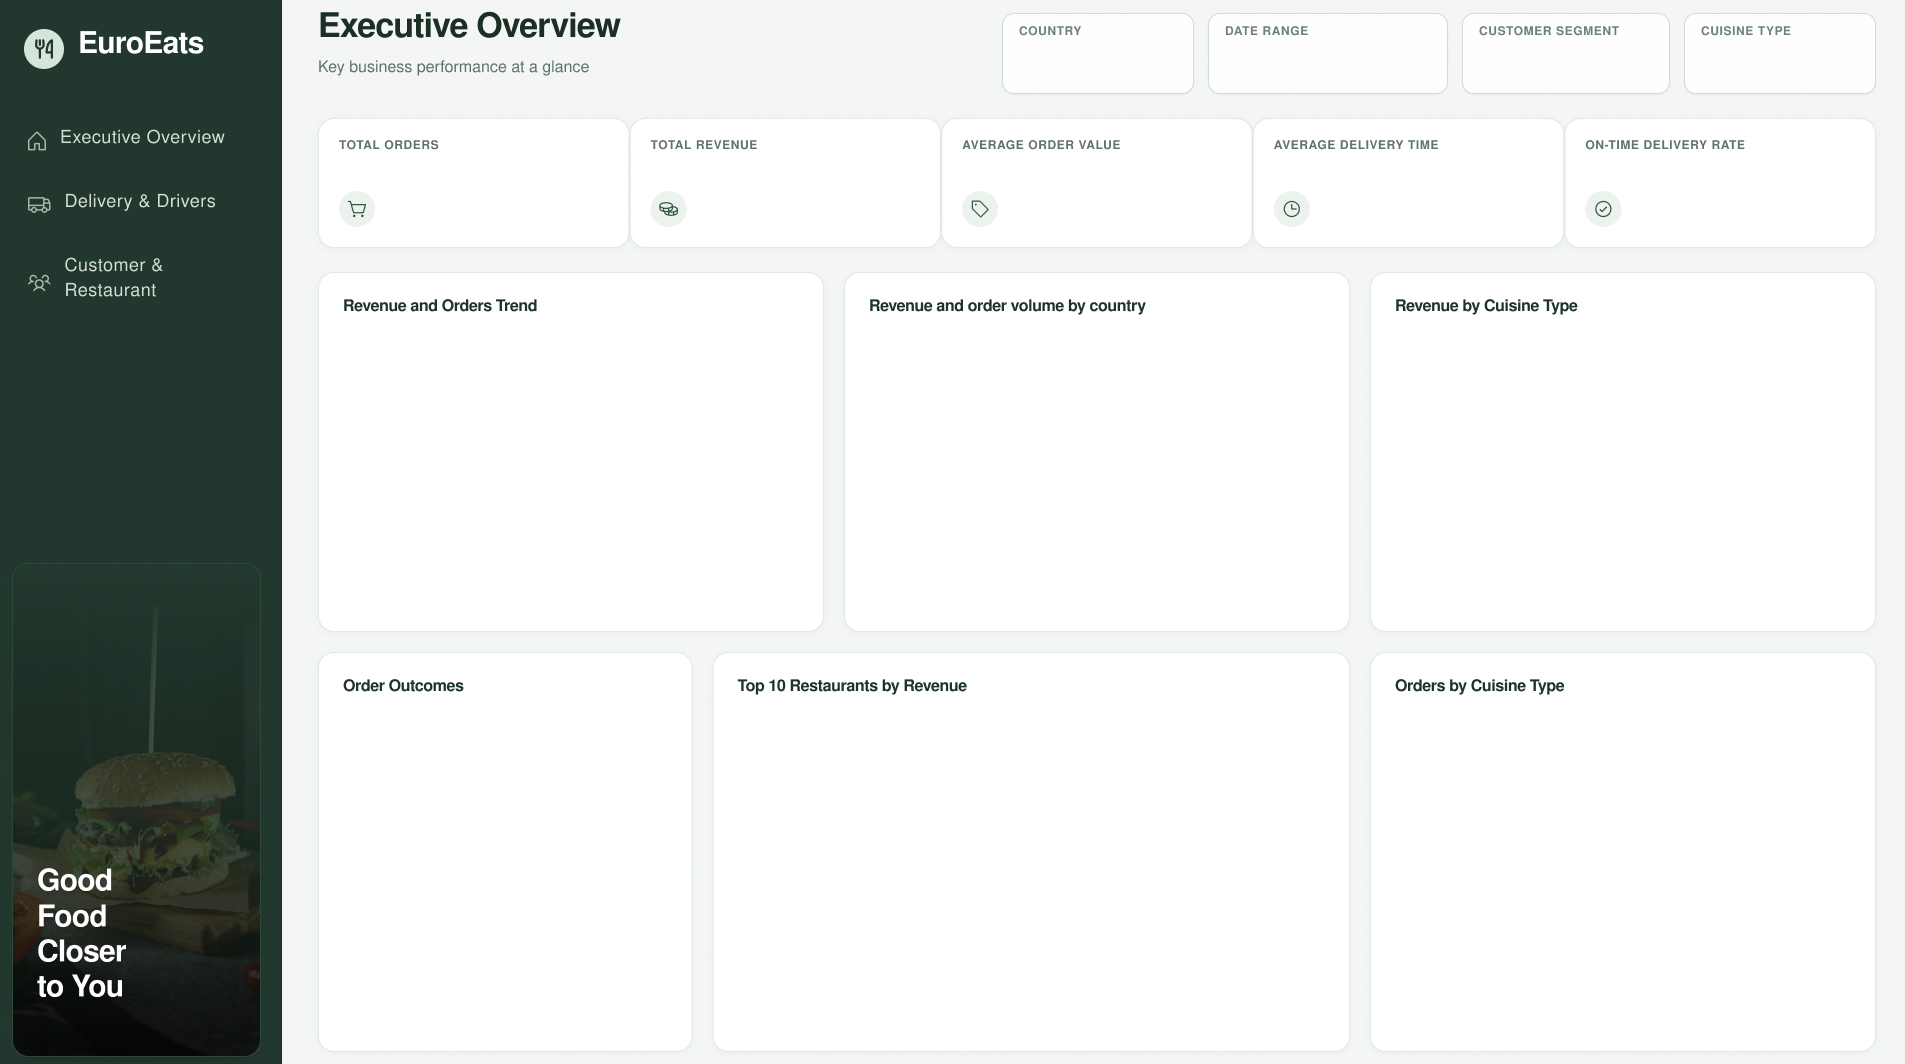

What the dashboard file says about the page in this screenshot:
{"tool":"powerbi","page":{"name":"Executive Overview","canvas":[1920,1080],"ordinal":0},"visuals":[{"type":"slicer","title":"Date Range","fields":{"Values":["Date.Date"]},"box":[1200,40,264,70],"z":0},{"type":"slicer","title":"Country","fields":{"Values":["restaurants.Cuisine Type"]},"box":[1012,40,170,58],"z":1000},{"type":"slicer","title":"Customer Segment","fields":{"Values":["customers.customer_segment"]},"box":[1464,40,206,70],"z":2000},{"type":"slicer","title":"Cuisine Type","fields":{"Values":["restaurants.cuisine_type"]},"box":[1696,42,184,68],"z":3000},{"type":"cardVisual","title":"Average Order Value","fields":{"Data":["Measure.Average Order Value"]},"box":[946,124,282,122],"z":4000},{"type":"cardVisual","title":"Average Delivery Time","fields":{"Data":["Measure.Average Delivery Time"]},"box":[1252,124,286,128],"z":5000},{"type":"cardVisual","title":"On-Time Delivery Rate","fields":{"Data":["Measure.On-Time Delivery Rate"]},"box":[1562,126,290,122],"z":6000},{"type":"cardVisual","title":"Total Orders","fields":{"Data":["Measure.Total Orders"]},"box":[312,124,276,122],"z":7000},{"type":"cardVisual","title":"Total Revanue","fields":{"Data":["Measure.Total Revanue"]},"box":[630,124,300,122],"z":8000},{"type":"lineStackedColumnComboChart","title":"Revenue and order volume trend over time","fields":{"Category":["Date.Year Month"],"Y":["Measure.Order Volume"],"Y2":["Measure.Total Revanue"]},"box":[332.7,320.8,493.1,317.3],"z":9000},{"type":"lineStackedColumnComboChart","title":"Revenue and order volume by country","fields":{"Category":["customers.country"],"Y":["Measure.Order Volume"],"Y2":["Measure.Total Revanue"]},"box":[849.7,308.8,505,331],"z":10000},{"type":"donutChart","title":"Revenue by Cuisine type","fields":{"Category":["restaurants.cuisine_type"],"Y":["Measure.Total Revanue"]},"box":[1382,294,498,346],"z":11000},{"type":"treemap","title":"Orders by Cuisine type","fields":{"Group":["restaurants.cuisine_type"],"Values":["Measure.Cuisine Order %"]},"box":[728,710,626,336],"z":12000},{"type":"donutChart","title":"Order Outcomes","fields":{"Category":["deliveries.delivery_status"],"Y":["Measure.Delivery Status %"]},"box":[332,688,366,358],"z":13000},{"type":"tableEx","title":"Top 10 Restaurants by Revanue","fields":{"Values":["restaurants.Restaurant Name","restaurants.Cuisine Type","Measure.Total Revanue","Measure.Total Orders","Measure.Avg Rating"]},"box":[1368,710,540,354],"z":14000},{"type":"actionButton","box":[14,514,200,50],"z":15000},{"type":"pageNavigator","box":[14,110,264,198],"z":15001}]}

Visuals, with their boxes on the page's 1920x1080 design canvas (x1, y1, x2, y2). These are canvas units, not pixel positions in the 1905x1064 screenshot, which may show the page scaled, cropped or inside an application window:
"Date Range" slicer: crop(1200, 40, 1464, 110)
"Country" slicer: crop(1012, 40, 1182, 98)
"Customer Segment" slicer: crop(1464, 40, 1670, 110)
"Cuisine Type" slicer: crop(1696, 42, 1880, 110)
"Average Order Value" cardVisual: crop(946, 124, 1228, 246)
"Average Delivery Time" cardVisual: crop(1252, 124, 1538, 252)
"On-Time Delivery Rate" cardVisual: crop(1562, 126, 1852, 248)
"Total Orders" cardVisual: crop(312, 124, 588, 246)
"Total Revanue" cardVisual: crop(630, 124, 930, 246)
"Revenue and order volume trend over time" lineStackedColumnComboChart: crop(333, 321, 826, 638)
"Revenue and order volume by country" lineStackedColumnComboChart: crop(850, 309, 1355, 640)
"Revenue by Cuisine type" donutChart: crop(1382, 294, 1880, 640)
"Orders by Cuisine type" treemap: crop(728, 710, 1354, 1046)
"Order Outcomes" donutChart: crop(332, 688, 698, 1046)
"Top 10 Restaurants by Revanue" tableEx: crop(1368, 710, 1908, 1064)
actionButton: crop(14, 514, 214, 564)
pageNavigator: crop(14, 110, 278, 308)
